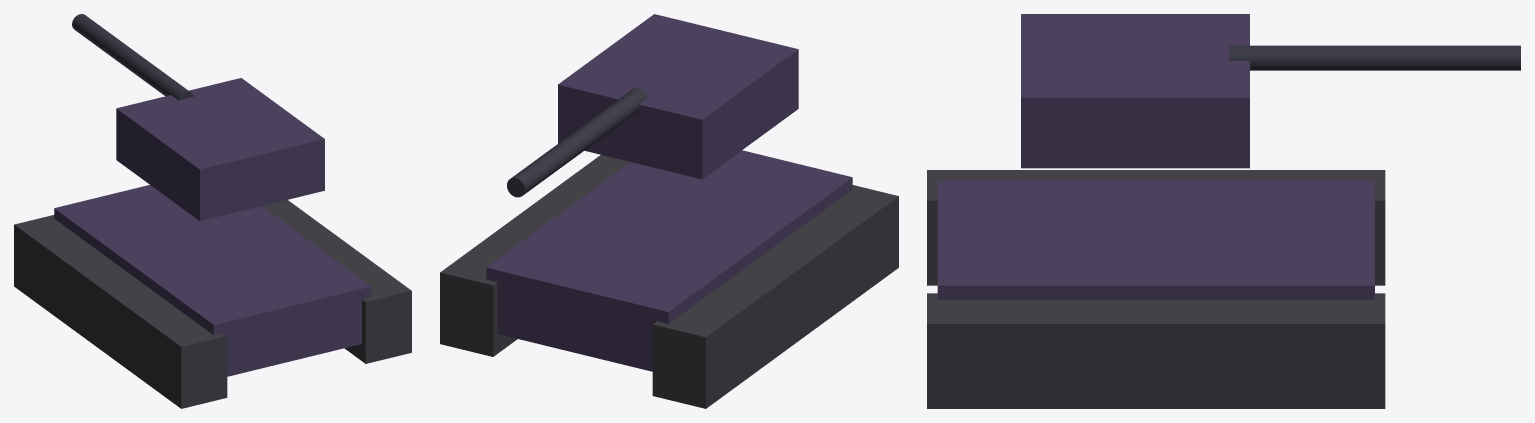
Rendered from CH_AttractorArk_LOD0.glb.
The picture shows the model from 3 angles, left to right: view 1: azimuth 30°, elevation 25°; view 2: azimuth 150°, elevation 25°; view 3: azimuth 270°, elevation 25°; orthographic projection. The views are drawn at different scales.
Parts seen in each view (by area): view 1: Cube, Cube.003, Cube.001, Cube.002, Cylinder; view 2: Cube, Cube.003, Cube.001, Cube.002, Cylinder; view 3: Cube, Cube.002, Cube.003, Cylinder, Cube.001.
Boxes of the visible parts, bbox=[...] form: Cube: bbox=[54, 185, 371, 376]; Cube.003: bbox=[116, 78, 324, 220]; Cube.001: bbox=[14, 215, 227, 408]; Cube.002: bbox=[262, 200, 411, 363]; Cylinder: bbox=[72, 14, 193, 100]; Cube: bbox=[486, 150, 852, 371]; Cube.003: bbox=[558, 14, 798, 179]; Cube.001: bbox=[652, 185, 898, 408]; Cube.002: bbox=[440, 155, 629, 356]; Cylinder: bbox=[507, 88, 647, 197]; Cube: bbox=[937, 180, 1374, 299]; Cube.002: bbox=[927, 293, 1385, 408]; Cube.003: bbox=[1021, 14, 1249, 168]; Cylinder: bbox=[1229, 45, 1520, 70]; Cube.001: bbox=[927, 170, 1385, 285].
Size of the model in its own units: 3.5 by 3.02 by 5.7.
